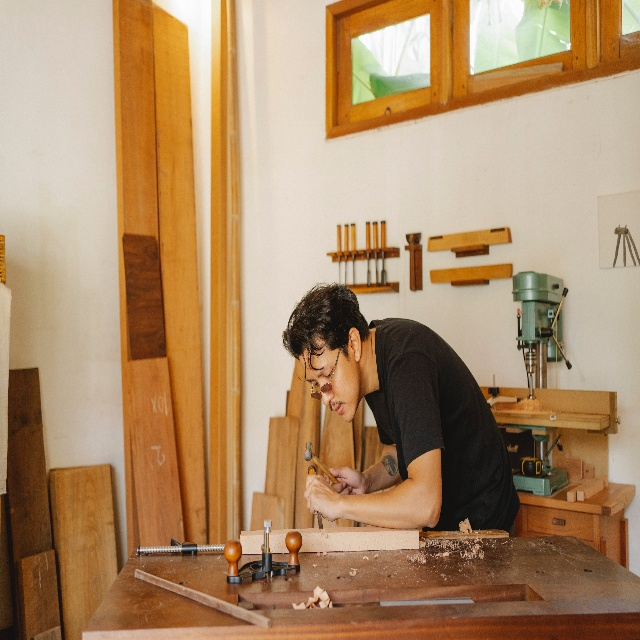Gafas: (310, 344, 341, 401)
Sin_guantes: (304, 474, 341, 522), (324, 467, 367, 496)
